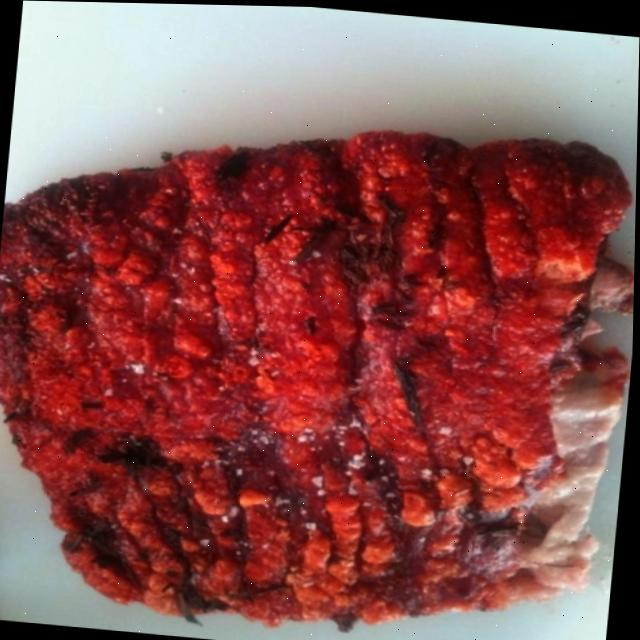牛肉菜式: (0, 103, 633, 640)
